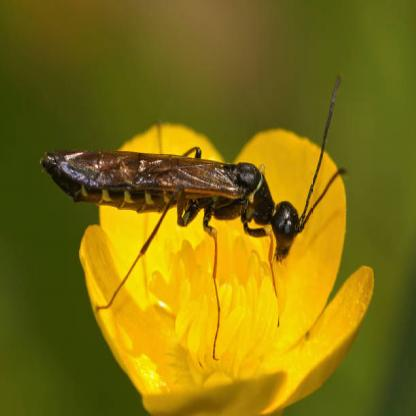sawfly: (38, 71, 350, 365)
